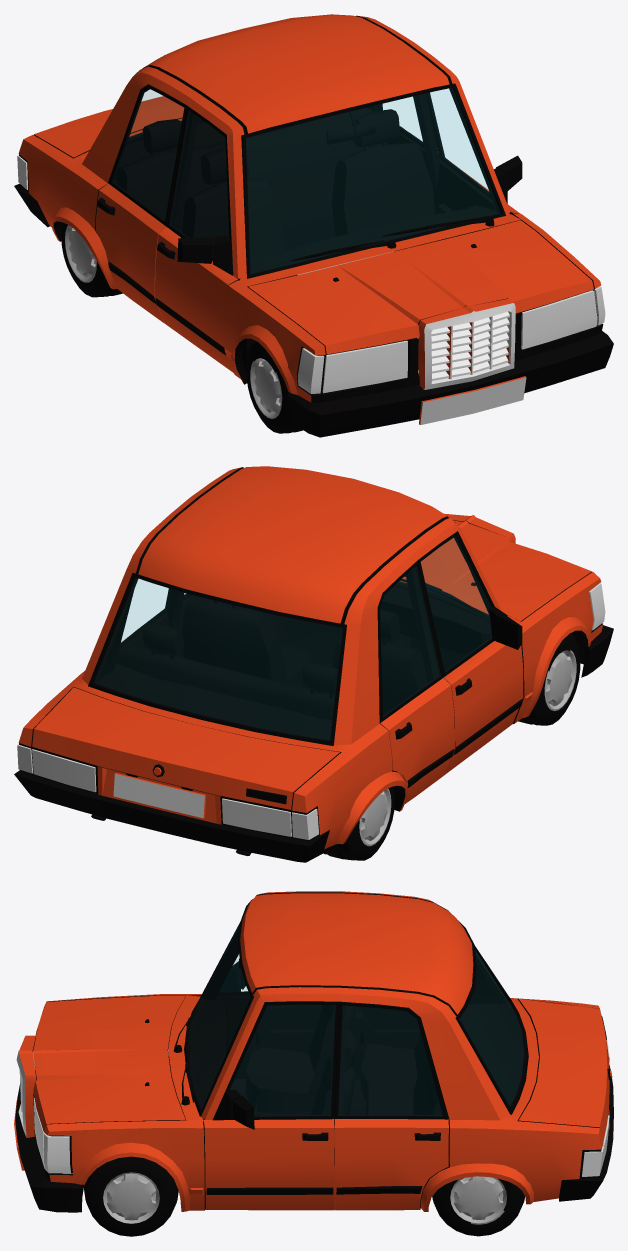
File: CarRed.fbx
3 views of the same model, one above another, from view 1: azimuth 30°, elevation 25°; view 2: azimuth 150°, elevation 25°; view 3: azimuth 270°, elevation 25° (orthographic). The views are drawn at different scales.
Visible parts, largest first — view 1: Doors_FR; view 2: Doors_FR; view 3: Doors_FR.
Part boxes in pixels (box(x1,y1,x2,y2)): Doors_FR: box(14, 14, 613, 437); Doors_FR: box(14, 466, 613, 862); Doors_FR: box(14, 891, 613, 1236).
Bounding box in the file's own units: 131 × 94.57 × 213.
